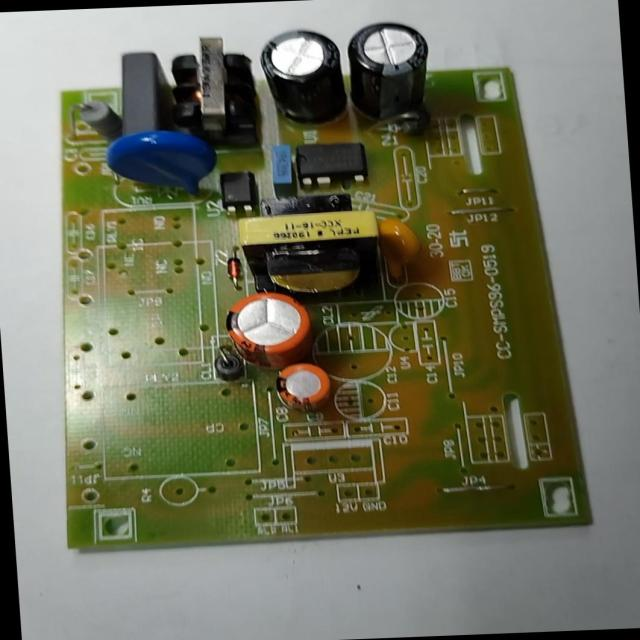Cap1: (222, 288, 313, 373)
Cap2: (274, 362, 330, 413)
Cap3: (256, 27, 352, 125)
Cap4: (345, 19, 434, 123)
MOSFET: (295, 139, 369, 185)
Mov: (102, 129, 218, 199)
Resistor: (76, 96, 119, 140)
Transformer: (235, 192, 385, 296), (162, 35, 260, 144)
